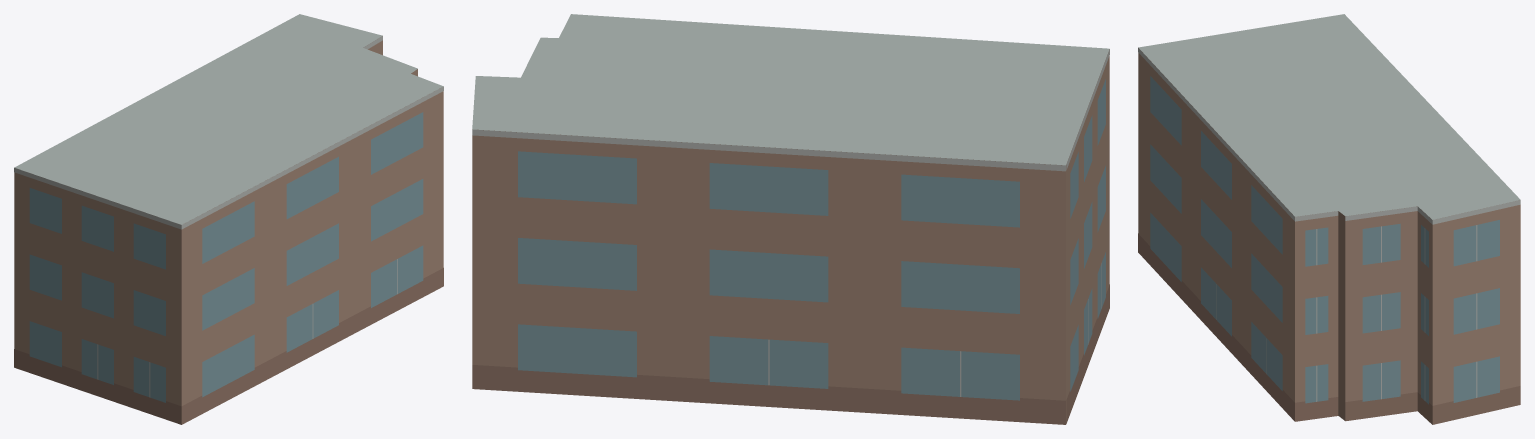
File: survey-upis-32759806.glb
The picture shows the model from 3 angles, left to right: view 1: azimuth 30°, elevation 25°; view 2: azimuth 150°, elevation 25°; view 3: azimuth 270°, elevation 25°; orthographic projection. The views are drawn at different scales.
Visible parts, largest first — view 1: survey-upis-32759806.tmp; view 2: survey-upis-32759806.tmp; view 3: survey-upis-32759806.tmp.
Boxes of the visible parts, x1,y1,x2,y2 form: survey-upis-32759806.tmp: (14, 14, 443, 424); survey-upis-32759806.tmp: (472, 14, 1109, 424); survey-upis-32759806.tmp: (1138, 14, 1520, 424).
Size of the model in its own units: 22.64 by 10.5 by 17.77.
